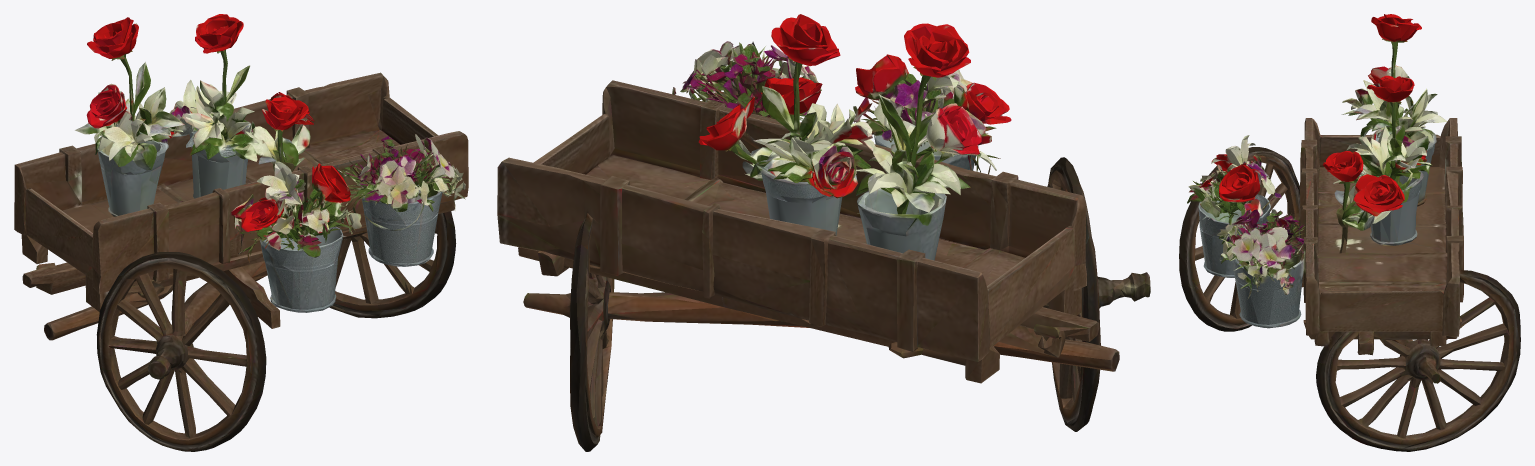
The model's file is flower_cart.glb.
3 renders of one model, left to right at view 1: azimuth 30°, elevation 25°; view 2: azimuth 150°, elevation 25°; view 3: azimuth 270°, elevation 25°, orthographic. The views are drawn at different scales.
Size of the model in its own units: 1.9 by 1.56 by 1.47.
1 material, 1 textured.
